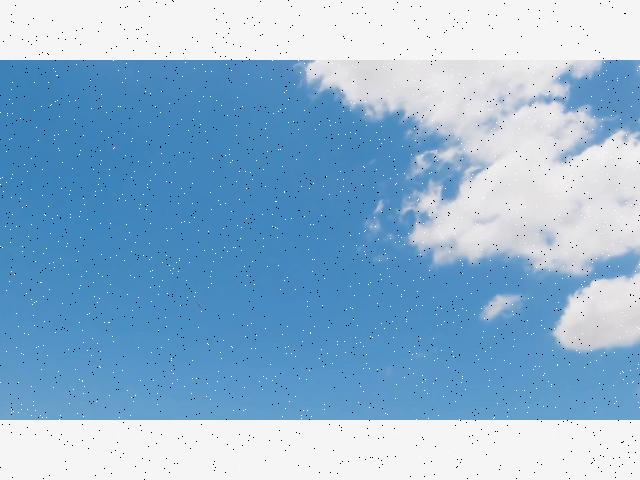Anti-Drone: (190, 293, 214, 315)
